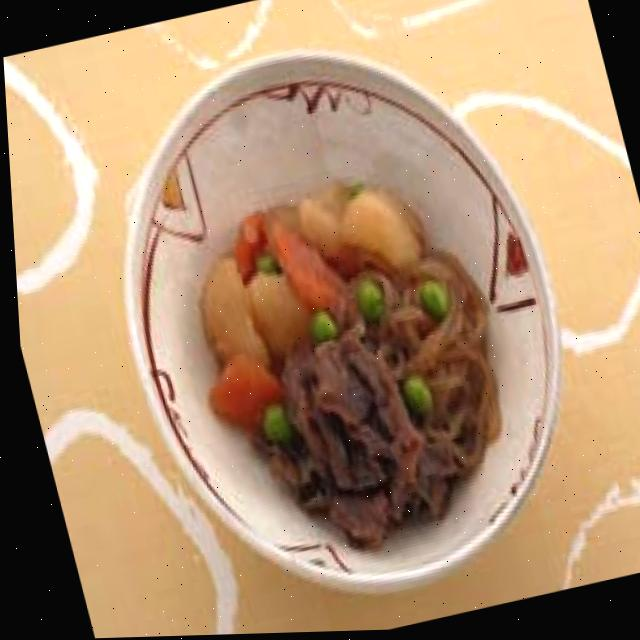牛肉菜式: (53, 0, 623, 639)
